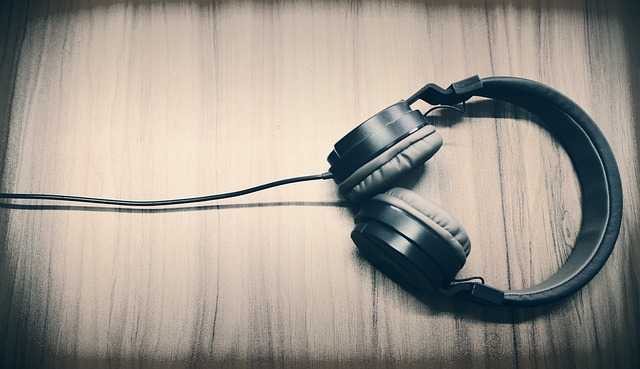headphones: (328, 75, 623, 314)
